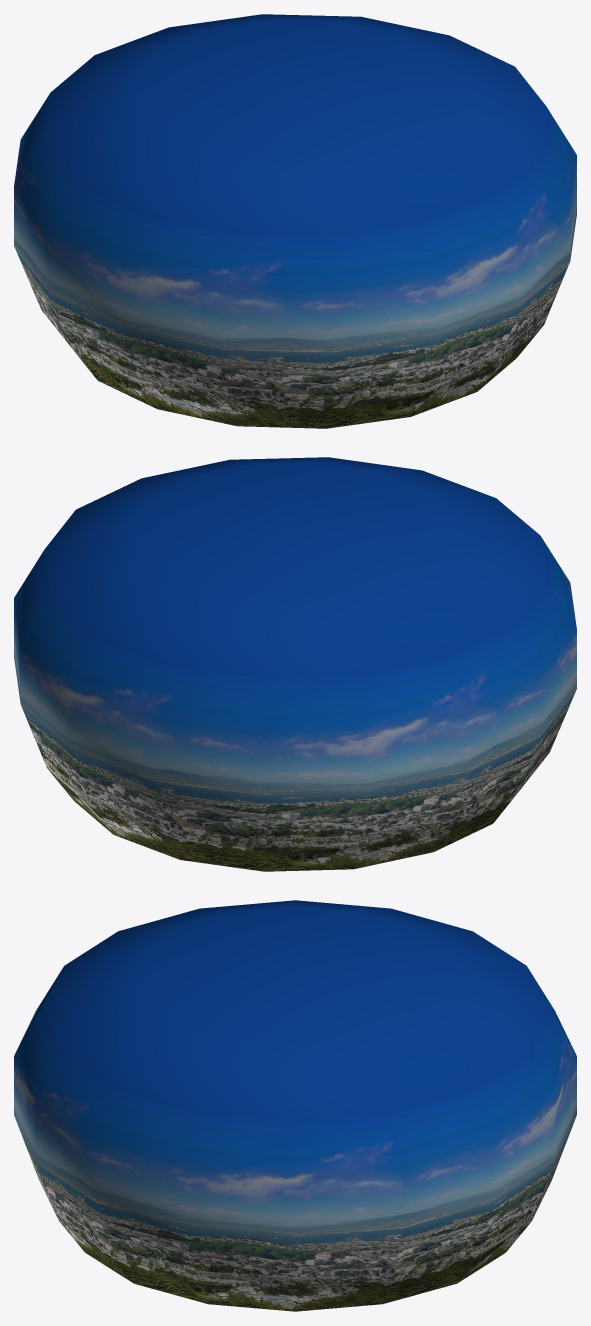
The model's file is Sky.obj.
3 renders of one model, top to bottom at view 1: azimuth 30°, elevation 25°; view 2: azimuth 150°, elevation 25°; view 3: azimuth 270°, elevation 25°, orthographic.
Bounding box in the file's own units: 6437 × 3453 × 6437.
3 materials, 3 textured.
